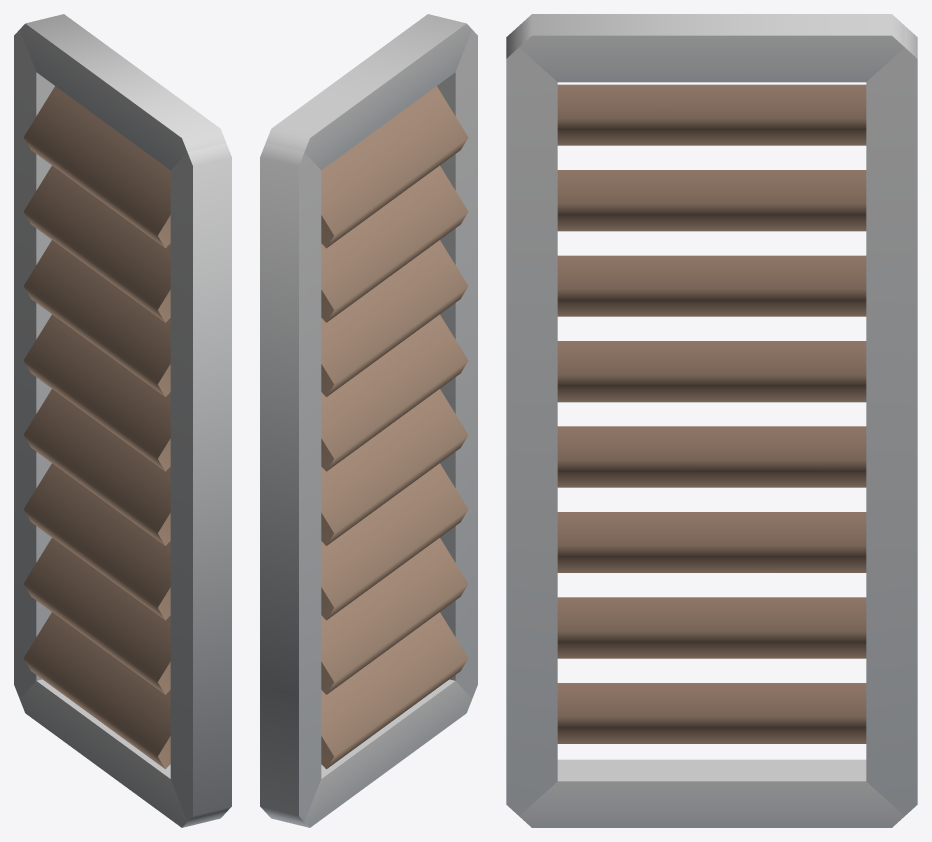
The model's file is shutter-tall (%wall).glb.
3 views of the same model, side by side, from view 1: azimuth 30°, elevation 25°; view 2: azimuth 150°, elevation 25°; view 3: azimuth 270°, elevation 25° (orthographic). The views are drawn at different scales.
Parts seen in each view (by area): view 1: shutter-tall (%wall); view 2: shutter-tall (%wall); view 3: shutter-tall (%wall).
Boxes of the visible parts, left/top/right/bottom form: shutter-tall (%wall): left=14, top=14, right=231, bottom=827; shutter-tall (%wall): left=260, top=14, right=477, bottom=827; shutter-tall (%wall): left=506, top=14, right=917, bottom=827.
Bounding box in the file's own units: 0.0668 × 0.85 × 0.4.
